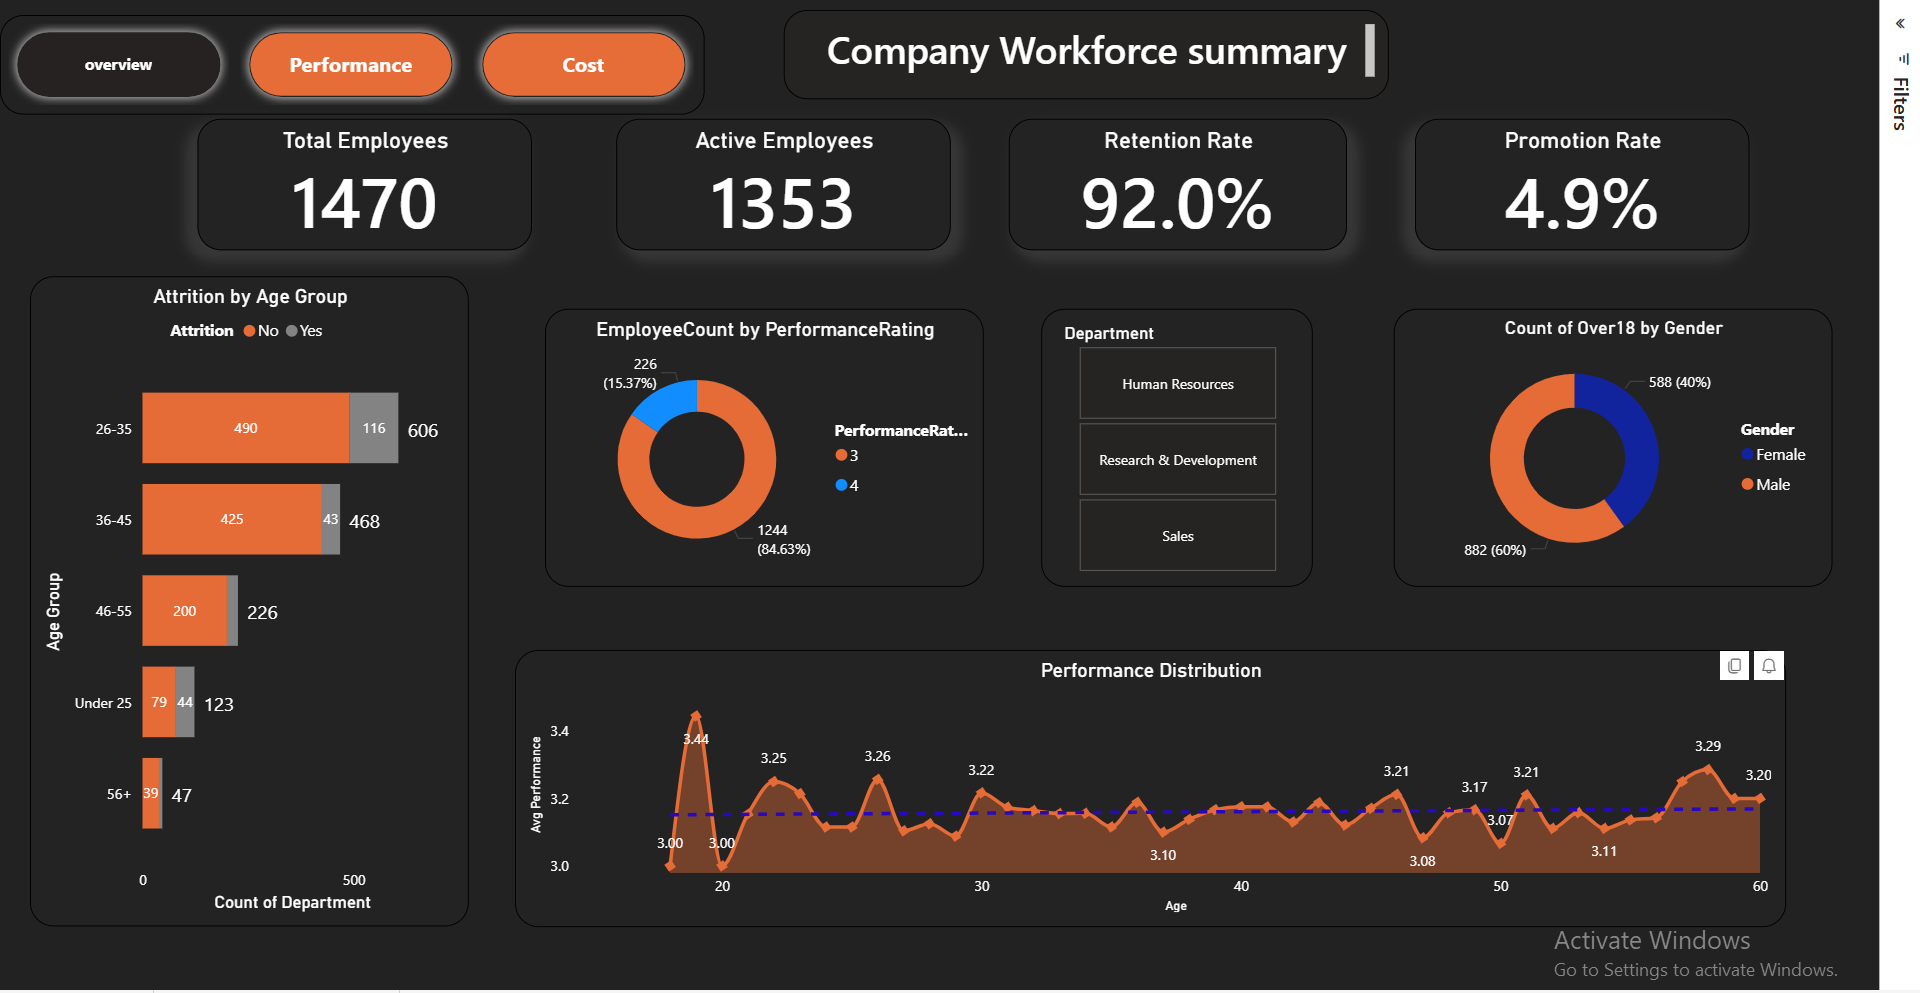

This screenshot's page, from the dashboard's own definition file:
{"tool":"powerbi","page":{"name":"HR","canvas":[1600,800],"ordinal":0},"visuals":[{"type":"textbox","box":[667.1,8.8,515.1,76],"z":0,"group":"g1"},{"type":"bookmarkNavigator","box":[0,13.2,600.2,84.7],"z":0},{"type":"group","id":"g1","title":"overview","box":[25.5,8.8,1535.5,780.7],"z":1000},{"type":"card","title":"Total Employees","fields":{"Values":["Measures (2).Total Employees"]},"box":[168.6,101.8,284.9,111.9],"z":1000,"group":"g1"},{"type":"card","title":"Active Employees","fields":{"Values":["Measures (2).Active Employees"]},"box":[524.7,101.8,284.9,111.9],"z":2000,"group":"g1"},{"type":"card","title":"Retention Rate","fields":{"Values":["Measures (2).Retention Rate"]},"box":[859,101.8,287.8,111.9],"z":3000,"group":"g1"},{"type":"card","title":"Promotion Rate ","fields":{"Values":["Measures (2).Promotion Rate"]},"box":[1204.9,101.8,284.9,111.9],"z":4000,"group":"g1"},{"type":"barChart","title":"Attrition by Age Group","fields":{"Category":["Hr analysis.Age Group"],"Series":["Hr analysis.Attrition"],"Y":["CountNonNull(Hr analysis.Department)"]},"box":[25.5,235.7,373.7,553.8],"z":5000,"group":"g1"},{"type":"donutChart","title":" EmployeeCount by PerformanceRating","fields":{"Category":["Hr analysis.PerformanceRating"],"Y":["Sum(Hr analysis.EmployeeCount)"]},"box":[463.8,262.7,373.7,237.1],"z":6000,"group":"g1"},{"type":"slicer","fields":{"Values":["Hr analysis.Department"]},"box":[887,262.7,231.1,237.1],"z":7000,"group":"g1"},{"type":"donutChart","fields":{"Category":["Hr analysis.Gender"],"Y":["CountNonNull(Hr analysis.Over18)"]},"box":[1187.2,262.7,373.7,237.1],"z":8000,"group":"g1"},{"type":"lineChart","title":"Performance Distribution","fields":{"Category":["Hr analysis.Age"],"Y":["Measures (2).Avg Performance"]},"box":[438.3,553.9,1082.2,235.6],"z":9000,"group":"g1"}]}

Visuals, with their boxes on the page's 1600x800 design canvas (x1, y1, x2, y2). These are canvas units, not pixel positions in the 1920x993 screenshot, which may show the page scaled, cropped or inside an application window:
textbox: 667:9:1182:85
bookmarkNavigator: 0:13:600:98
"overview" group: 26:9:1561:790
"Total Employees" card: 169:102:454:214
"Active Employees" card: 525:102:810:214
"Retention Rate" card: 859:102:1147:214
"Promotion Rate " card: 1205:102:1490:214
"Attrition by Age Group" barChart: 26:236:399:790
" EmployeeCount by PerformanceRating" donutChart: 464:263:838:500
slicer - Hr analysis.Department: 887:263:1118:500
donutChart - Hr analysis.Gender x CountNonNull(Hr analysis.Over18): 1187:263:1561:500
"Performance Distribution" lineChart: 438:554:1520:790
